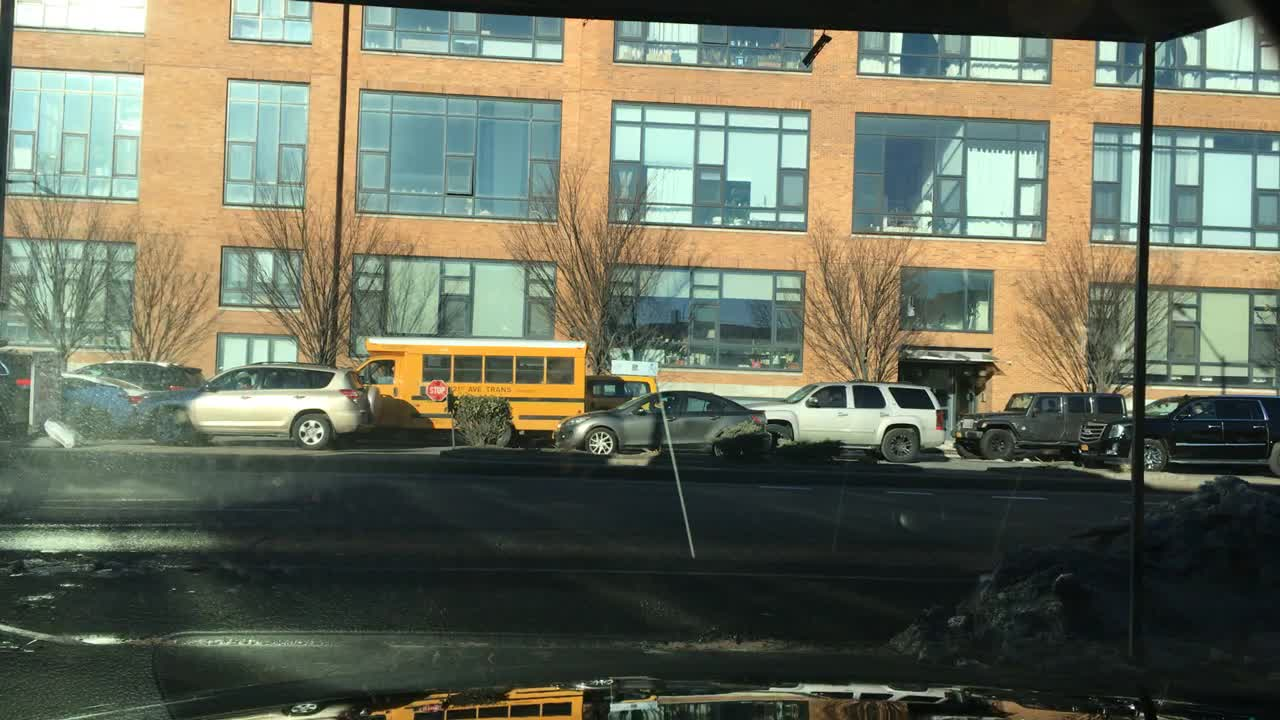bus: (351, 334, 589, 446)
car: (183, 360, 381, 448), (739, 379, 946, 463), (1074, 393, 1280, 474), (552, 388, 762, 457), (948, 388, 1135, 465), (68, 357, 206, 400), (0, 348, 53, 443), (57, 374, 135, 435), (131, 386, 205, 443), (584, 370, 655, 411)
traffic light: (426, 376, 447, 400)
traffic sign: (607, 358, 659, 376)
